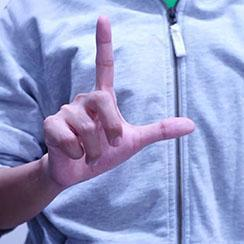L: (22, 8, 225, 224)
